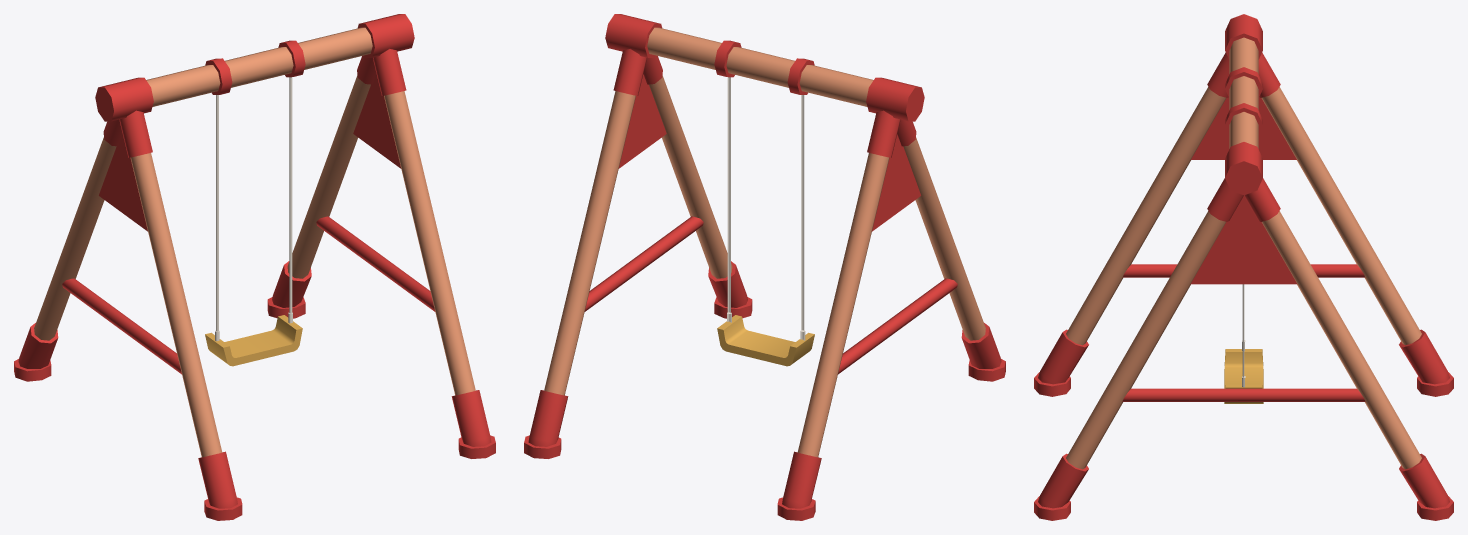
Rendered from Swing_01.fbx.
3 views of the same model, side by side, from view 1: azimuth 30°, elevation 25°; view 2: azimuth 150°, elevation 25°; view 3: azimuth 270°, elevation 25° (orthographic).
Parts seen in each view (by area): view 1: Swing_01; view 2: Swing_01; view 3: Swing_01.
Part boxes in pixels (x1,y1,x2,y2): Swing_01: (14, 14, 495, 520); Swing_01: (524, 14, 1005, 520); Swing_01: (1034, 14, 1453, 520).
Bounding box in the file's own units: 2.08 × 2.39 × 2.5.
